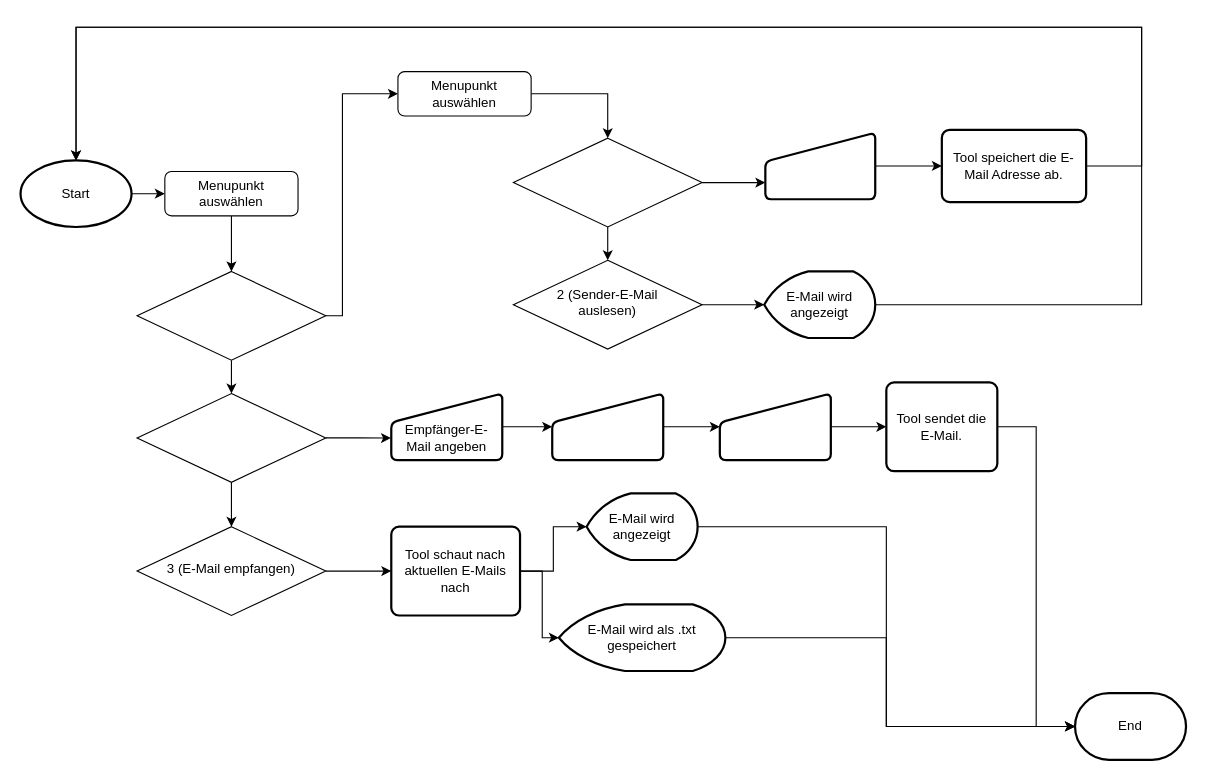
The diagram is 1205 pixels wide and 780 high, and some of its shapes have lost their labels. Each missing label, with the centre of its shape:
1 (Sender-E-Mail): [231,315]
1 (Sender-E-Mail-Konfigurieren: [607,182]
2 (E-Mail senden): [231,437]
E-Mail Subjekt eingeben: [607,426]
Nachricht eingeben: [774,426]
Sender-E-Mail angeben: [820,165]
